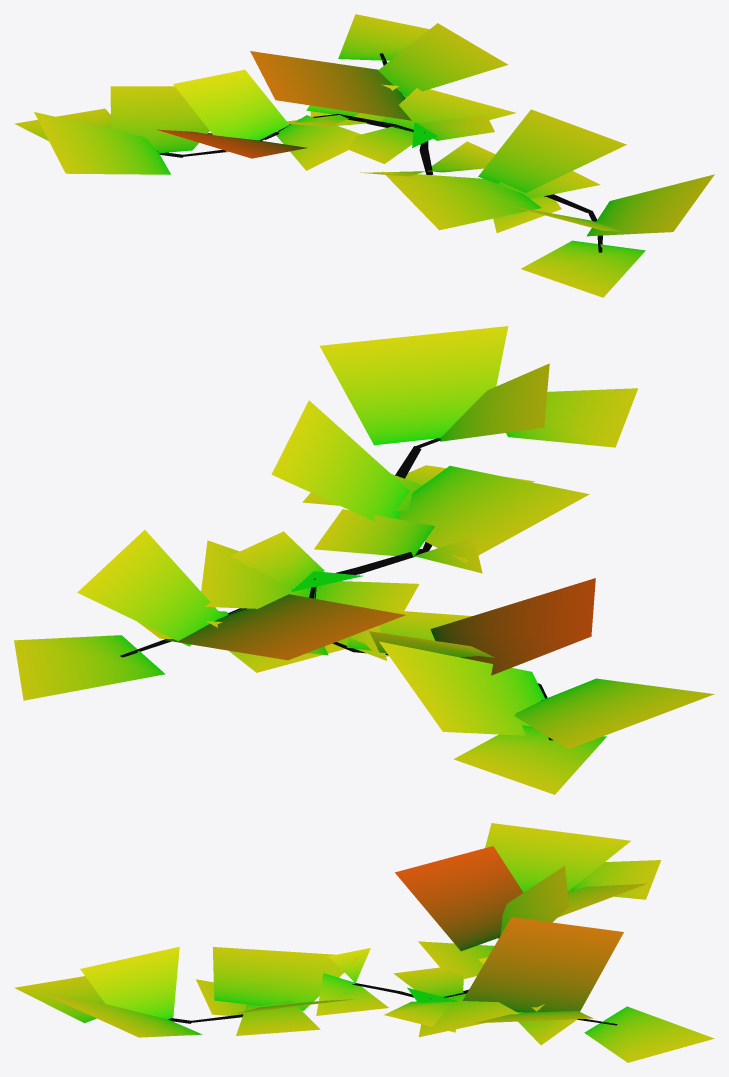
The model's file is Mile-a-minute Vine_LOD2_Var7_sfqns.fbx.
3 views of the same model, one above another, from view 1: azimuth 30°, elevation 25°; view 2: azimuth 150°, elevation 25°; view 3: azimuth 270°, elevation 25° (orthographic). The views are drawn at different scales.
Parts seen in each view (by area): view 1: _a41c_Var7_LOD2; view 2: _a41c_Var7_LOD2; view 3: _a41c_Var7_LOD2.
Part boxes in pixels (box(x1,y1,x2,y2)): _a41c_Var7_LOD2: box(14, 14, 714, 297); _a41c_Var7_LOD2: box(14, 326, 714, 794); _a41c_Var7_LOD2: box(14, 823, 714, 1062).
Bounding box in the file's own units: 31.64 × 3.51 × 40.98.
